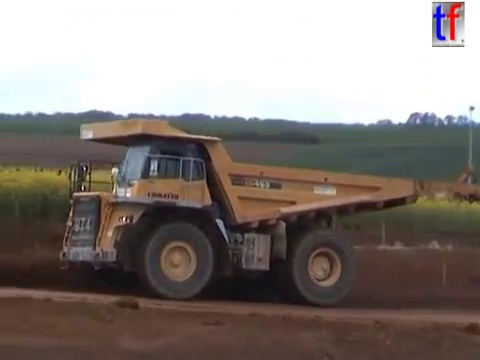excavator: (445, 164, 480, 206)
truck: (55, 115, 424, 308)
